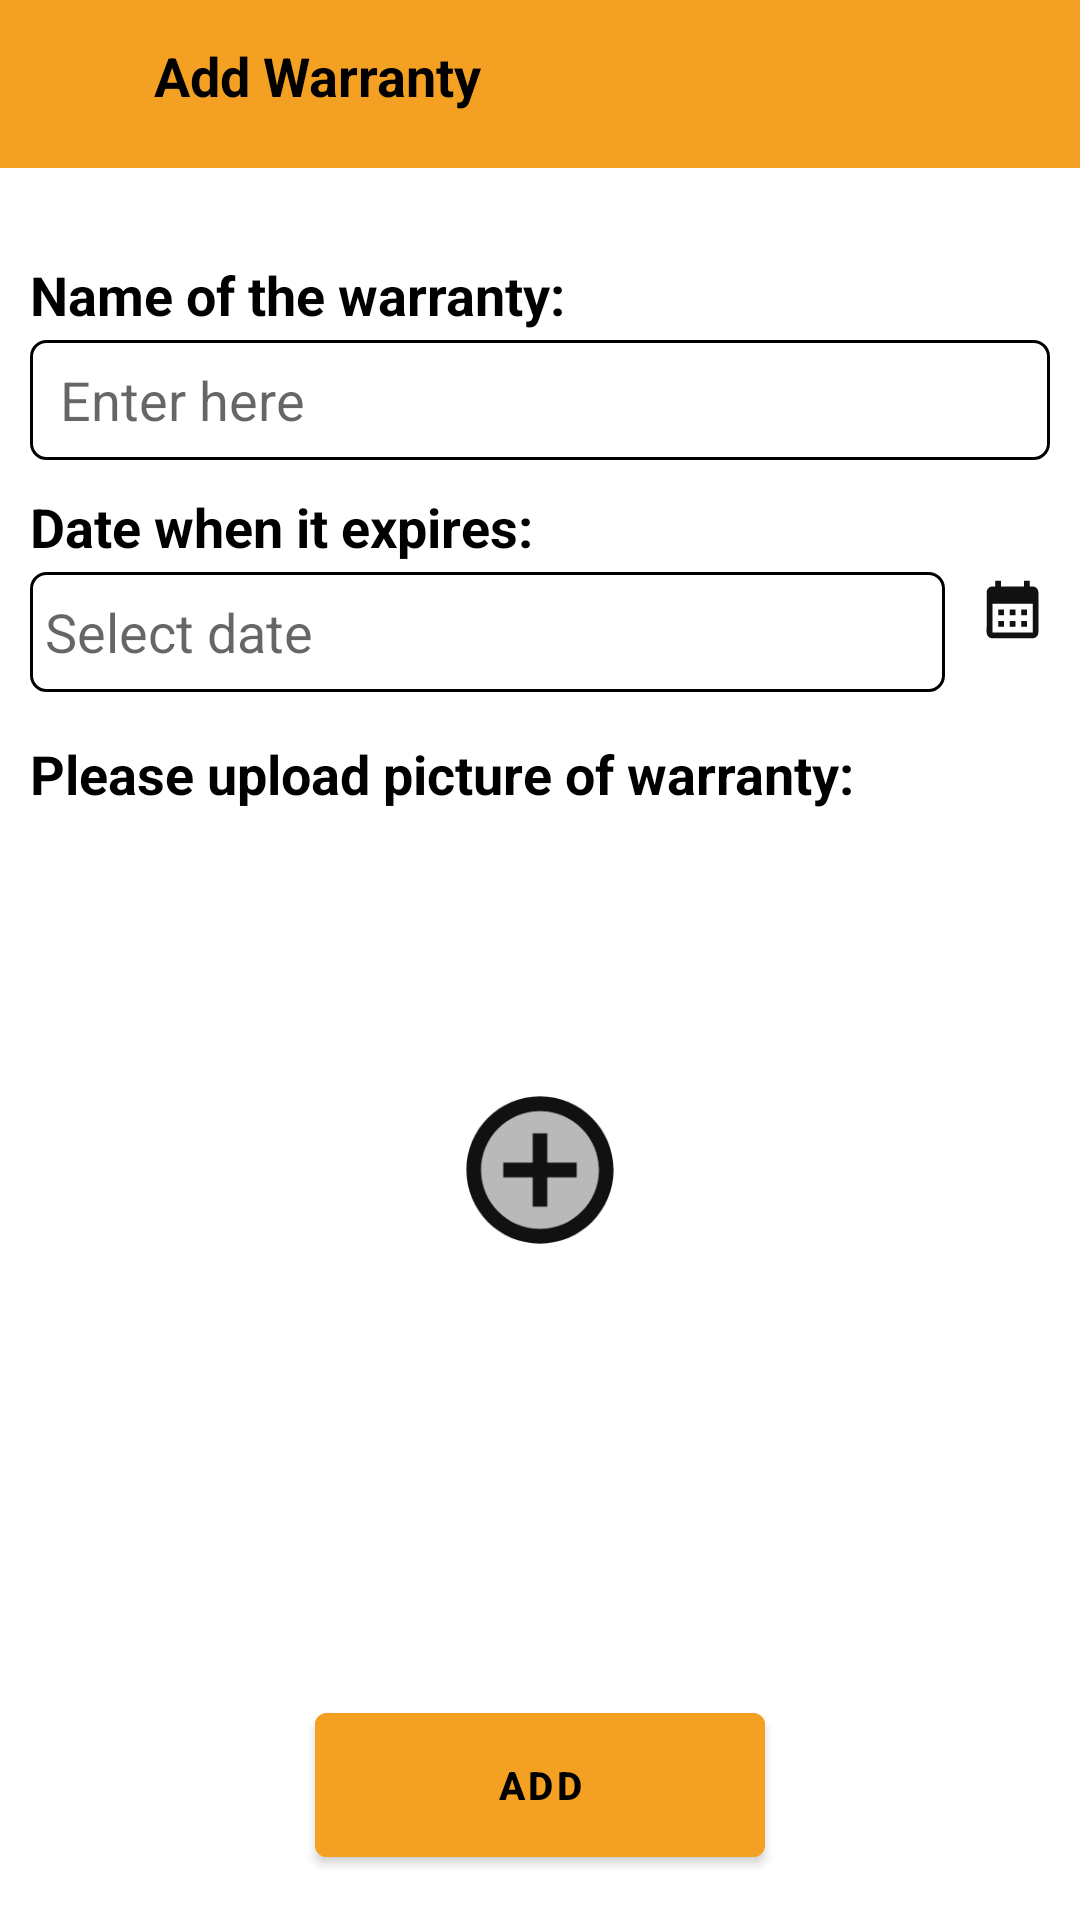

Icon bounding boxes for this 1080w x 1920h phone screenshot, format (x1, y1, x2, y2):
calendar: (986, 580, 1039, 639)
